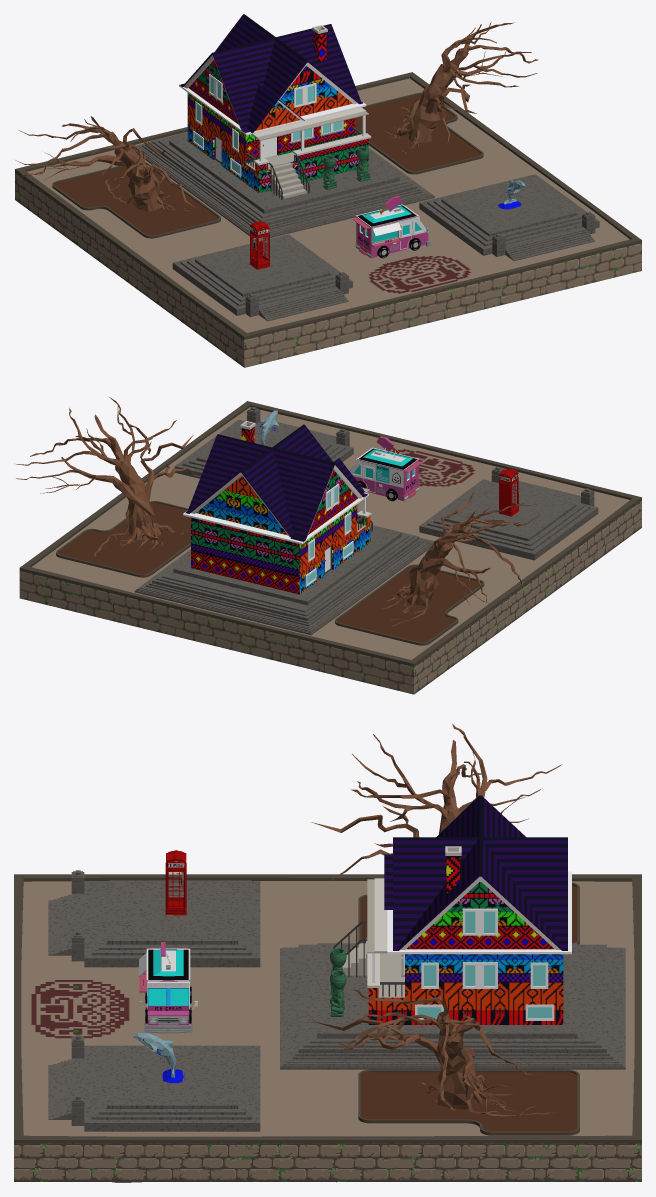
3 views of the same model, one above another, from view 1: azimuth 30°, elevation 25°; view 2: azimuth 150°, elevation 25°; view 3: azimuth 270°, elevation 25° (orthographic). The views are drawn at different scales.
Visible parts, largest first — view 1: Cube.011, Cube.966, VEHICLES_ICE_CREAM_TRUCK, OBJRANDOM_PHONEBOOTH; view 2: Cube.011, Cube.966, VEHICLES_ICE_CREAM_TRUCK, OBJRANDOM_PHONEBOOTH; view 3: Cube.011, Cube.966, VEHICLES_ICE_CREAM_TRUCK, OBJRANDOM_PHONEBOOTH, ANIMAL_DELFIN.
Part boxes in pixels (x1,y1,x2,y2): Cube.011: (15, 22, 641, 367); Cube.966: (179, 14, 371, 199); VEHICLES_ICE_CREAM_TRUCK: (352, 195, 431, 258); OBJRANDOM_PHONEBOOTH: (249, 221, 270, 269); Cube.011: (14, 397, 641, 694); Cube.966: (183, 421, 372, 594); VEHICLES_ICE_CREAM_TRUCK: (349, 436, 422, 501); OBJRANDOM_PHONEBOOTH: (498, 468, 519, 516); Cube.011: (14, 724, 641, 1181); Cube.966: (333, 795, 571, 1024); VEHICLES_ICE_CREAM_TRUCK: (139, 942, 197, 1033); OBJRANDOM_PHONEBOOTH: (165, 850, 186, 915); ANIMAL_DELFIN: (133, 1032, 185, 1083).
Bounding box in the file's own units: 5099 × 1633 × 4000.
51 materials, 9 textured.
